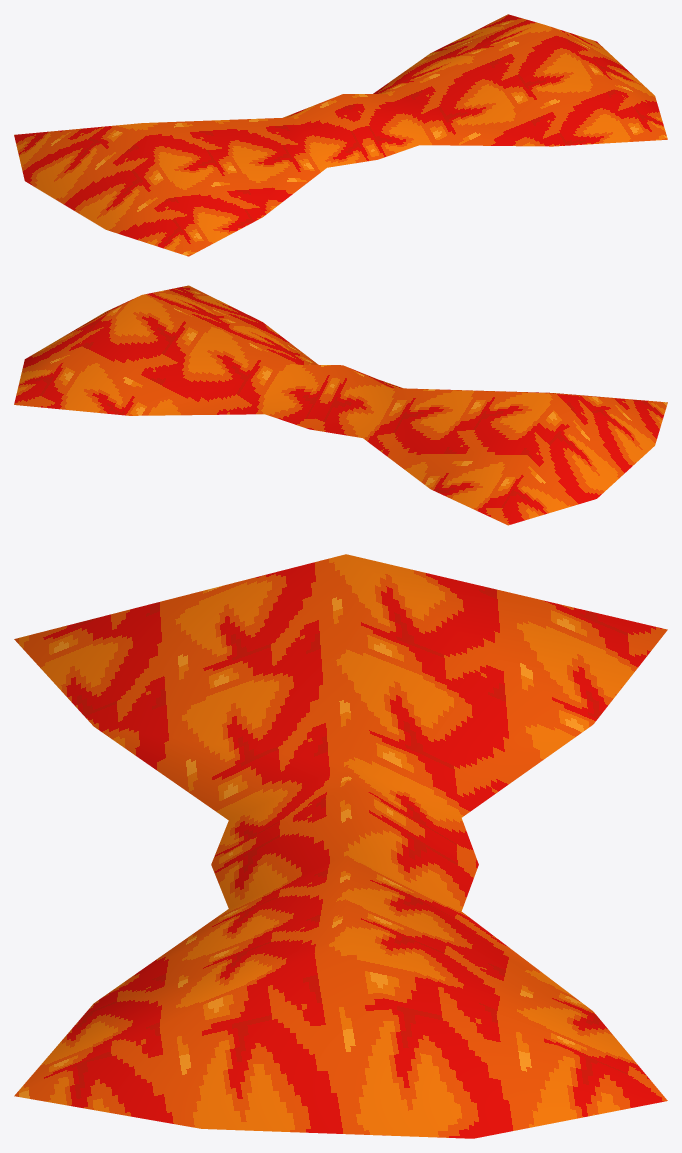
The model's file is 2938head088_c.gltf.
The picture shows the model from 3 angles, top to bottom: view 1: azimuth 30°, elevation 25°; view 2: azimuth 150°, elevation 25°; view 3: azimuth 270°, elevation 25°; orthographic projection. The views are drawn at different scales.
Parts seen in each view (by area): view 1: 2938head088_c; view 2: 2938head088_c; view 3: 2938head088_c.
Part boxes in pixels (bbox=[...]): 2938head088_c: bbox=[14, 14, 667, 256]; 2938head088_c: bbox=[14, 285, 667, 525]; 2938head088_c: bbox=[14, 554, 667, 1138].
Size of the model in its own units: 0.8569 by 0.0891 by 0.4341.
Materials: 1 (1 with a texture image).
